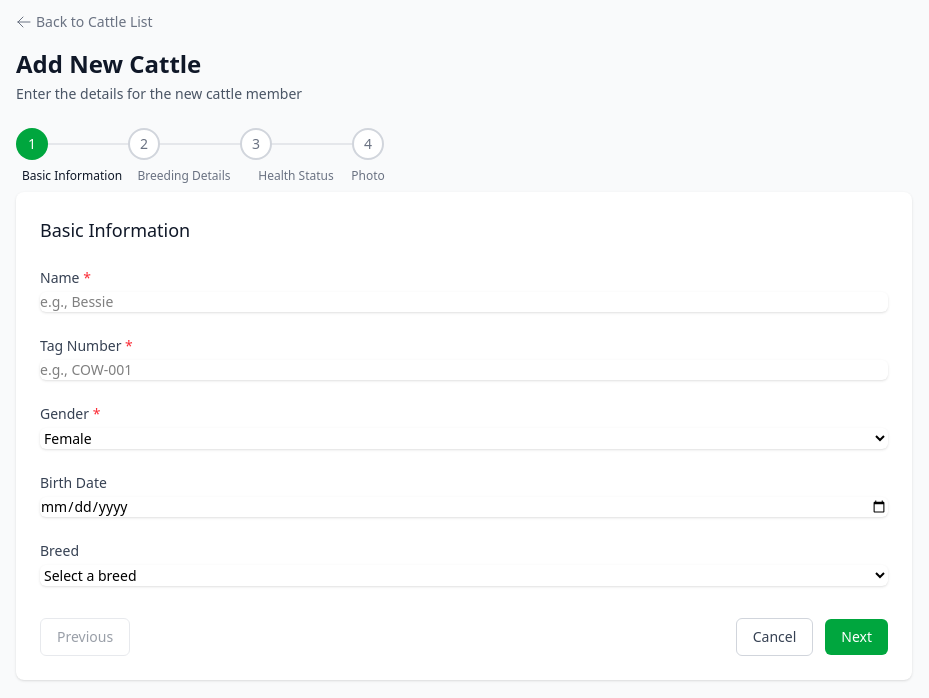
Test: AddCattlePage › should navigate through form steps
Note: Fill required fields in step 1
In the field labelled "Name *": (464, 302) [40,292,888,312], type "Bessie"
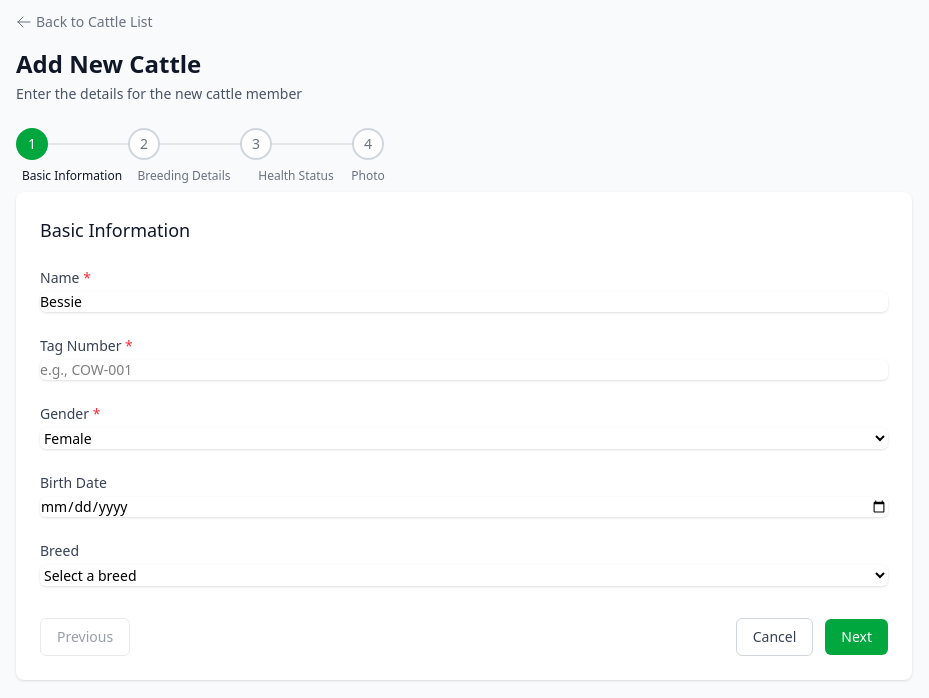
In the field labelled "Tag Number *": (464, 370) [40,360,888,380], type "COW-001"
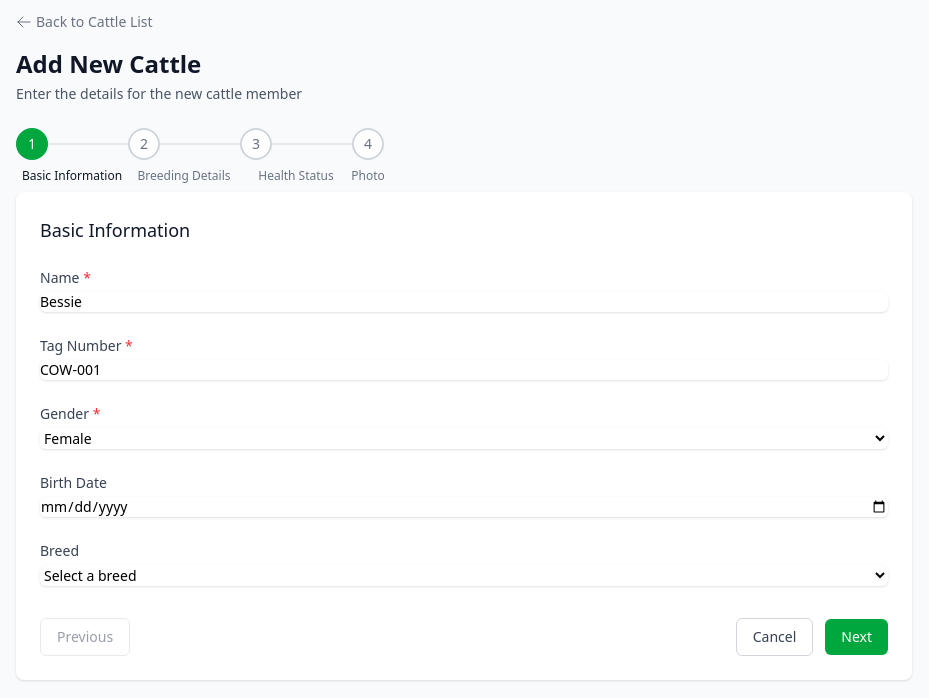
Note: Go to next step
Click the button "Next": (857, 637) [825,619,888,655]
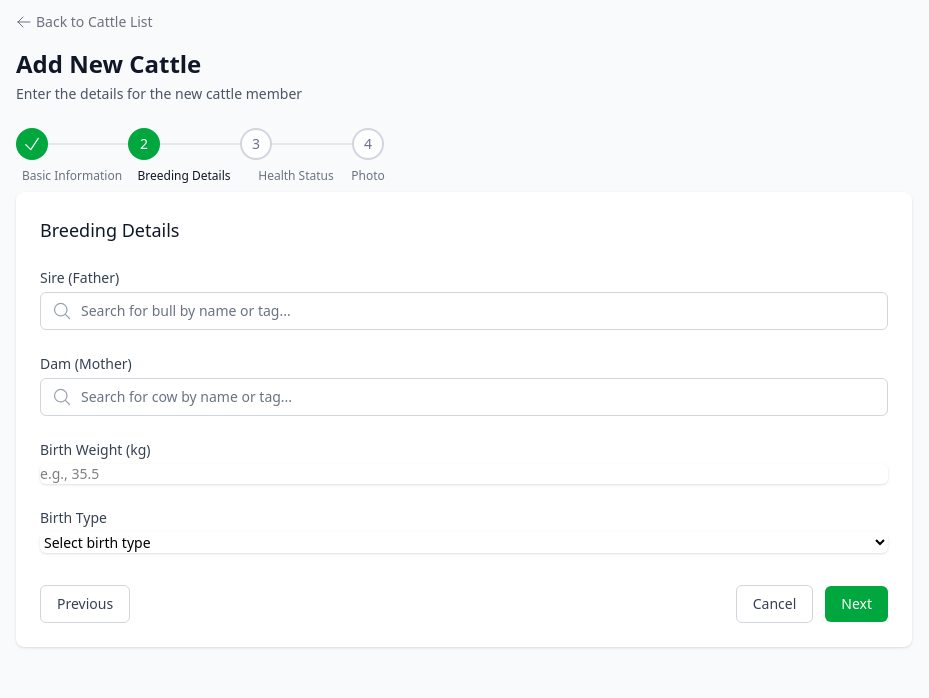
Now the text "Sire (Father)" is shown, box [40,268,119,287]
